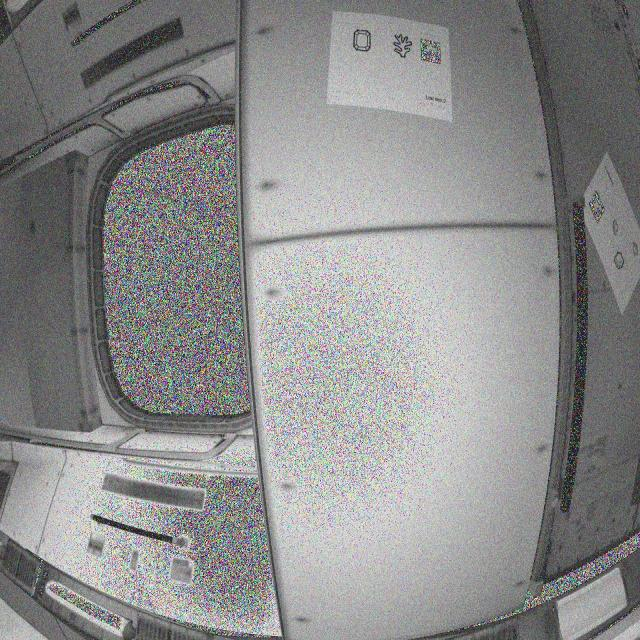emerald: (351, 28, 376, 54)
fossil: (392, 33, 414, 62)
shell: (611, 250, 628, 271), (631, 239, 640, 260), (612, 221, 622, 238)
